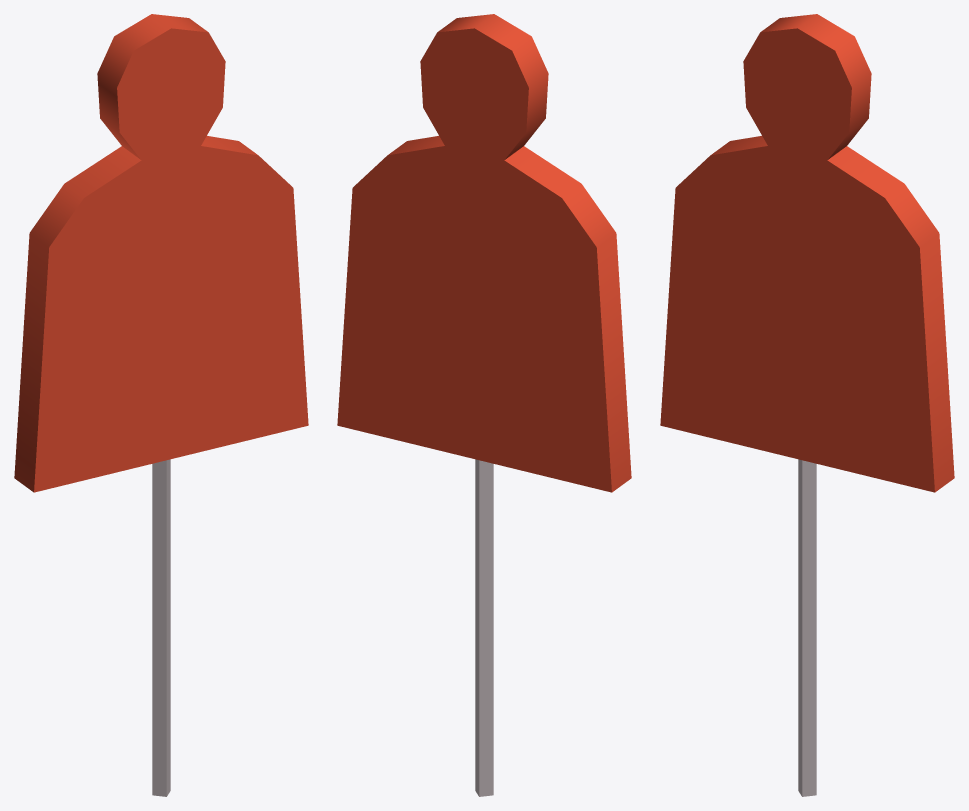
The model's file is TargetDummy.fbx.
3 renders of one model, left to right at view 1: azimuth 30°, elevation 25°; view 2: azimuth 150°, elevation 25°; view 3: azimuth 330°, elevation 25°, orthographic.
Parts seen in each view (by area): view 1: Plane; view 2: Plane; view 3: Plane.
Boxes of the visible parts, x1,y1,x2,y2 form: Plane: [14, 14, 308, 796]; Plane: [337, 14, 631, 796]; Plane: [660, 14, 954, 796].
Bounding box in the file's own units: 69.37 × 186 × 8.6.
